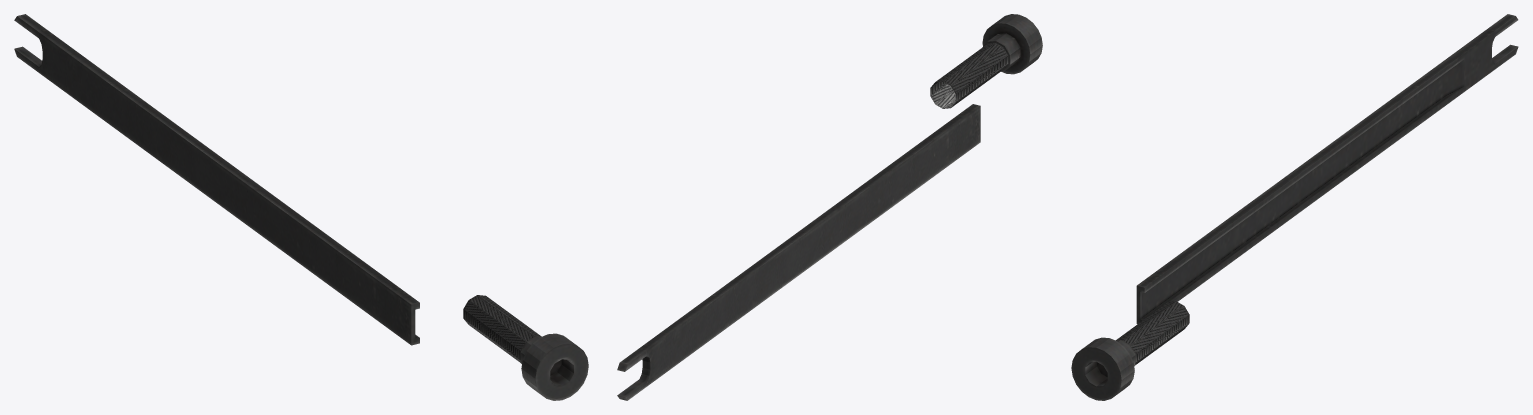
3 views of the same model, side by side, from view 1: azimuth 30°, elevation 25°; view 2: azimuth 150°, elevation 25°; view 3: azimuth 330°, elevation 25° (orthographic). The views are drawn at different scales.
Visible parts, largest first — view 1: TW_65fb023261d5829b2d090755_PZ_Import; view 2: TW_65fb023261d5829b2d090755_PZ_Import; view 3: TW_65fb023261d5829b2d090755_PZ_Import.
Part boxes in pixels (x1,y1,x2,y2): TW_65fb023261d5829b2d090755_PZ_Import: [14, 14, 588, 400]; TW_65fb023261d5829b2d090755_PZ_Import: [617, 14, 1042, 400]; TW_65fb023261d5829b2d090755_PZ_Import: [1071, 14, 1518, 400].
Bounding box in the file's own units: 0.015 × 0.1588 × 0.0104.
Materials: 1 (1 with a texture image).
